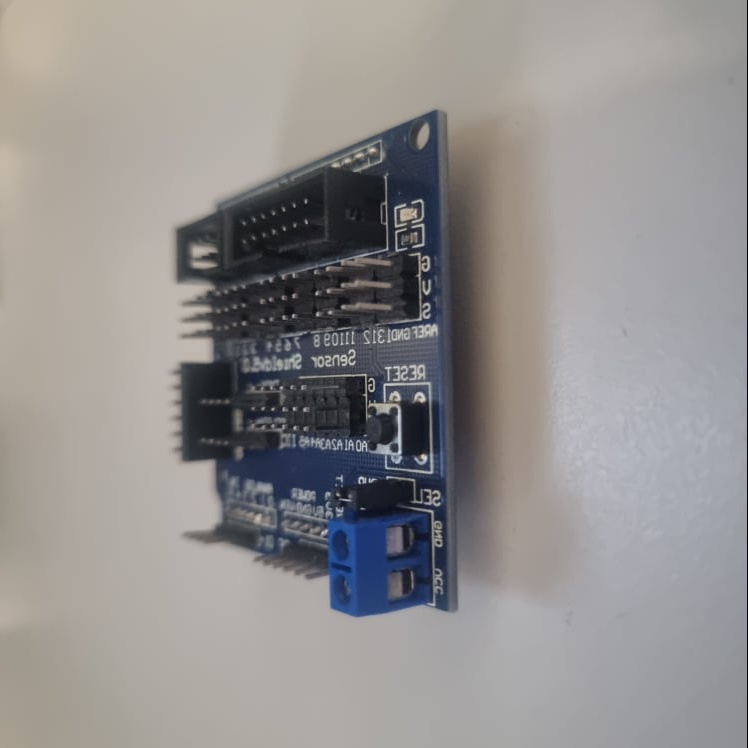5V EXPANSION: (156, 108, 457, 623)
